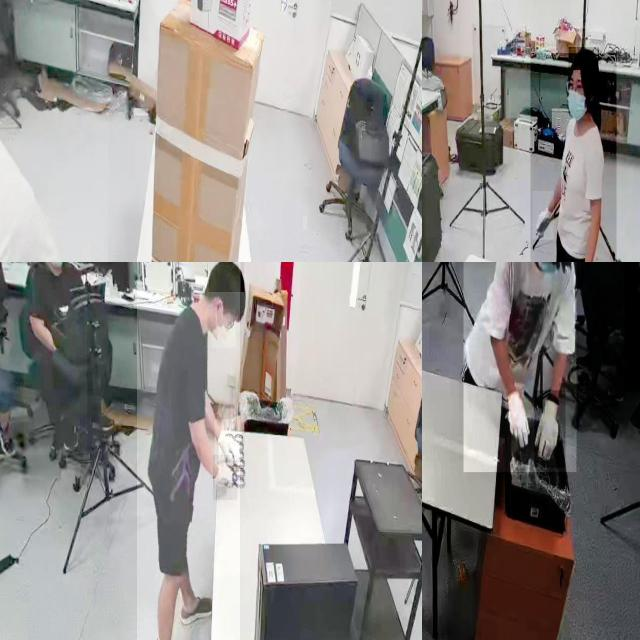face_mask: (560, 78, 587, 130), (206, 309, 236, 348)
glasses: (564, 77, 588, 97)
hand_glove: (534, 391, 566, 468), (503, 386, 532, 447), (214, 419, 242, 465), (532, 191, 554, 241), (213, 455, 237, 500)
head_nohelmet: (208, 262, 244, 293), (568, 47, 600, 71)
person: (137, 262, 240, 640), (463, 262, 576, 473), (0, 78, 109, 262), (530, 53, 617, 262), (23, 262, 87, 455)
shoes: (176, 590, 216, 627)
